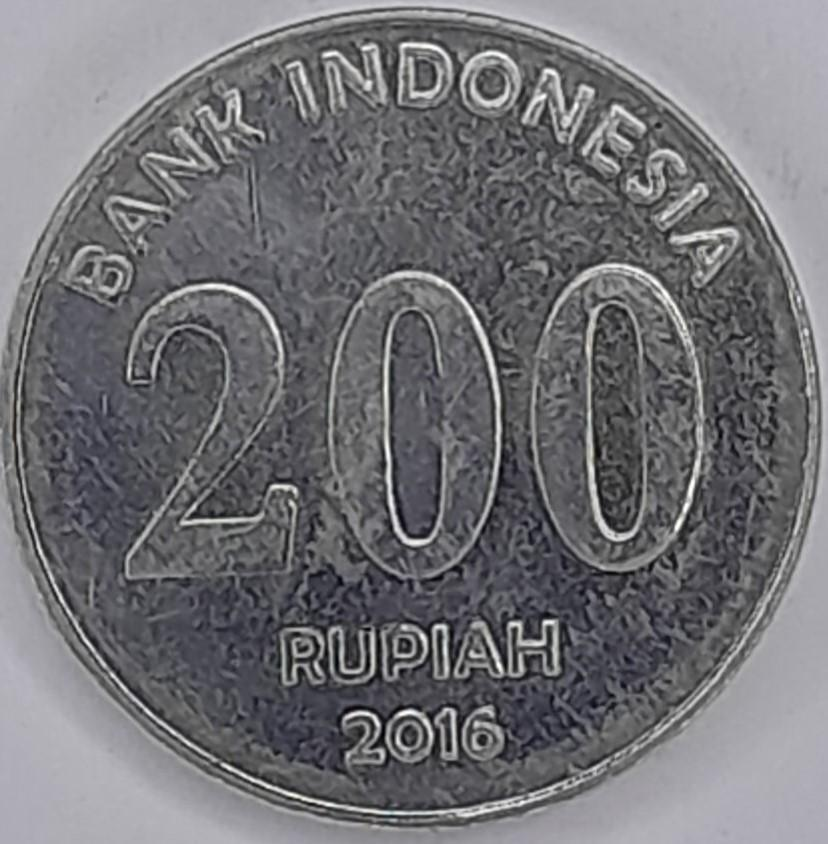coin_200_e2016: (0, 15, 828, 844)
